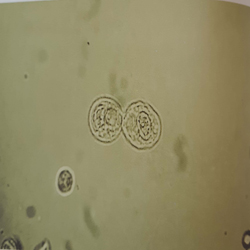Epithelial: (86, 89, 165, 156), (49, 163, 88, 202)
